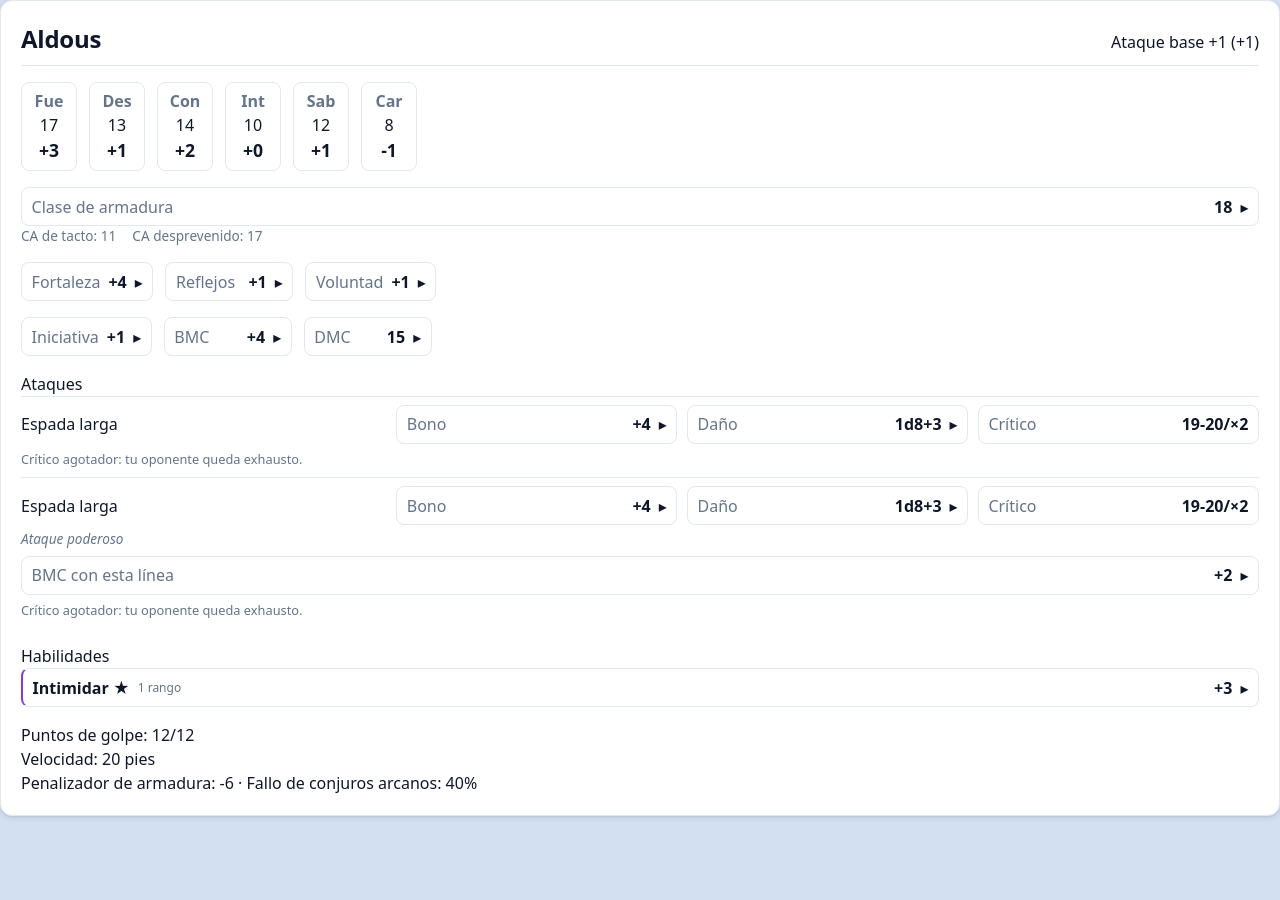
Test: CombatCard › shows a line's own CMB only when that line changes it
Click the button "BMC con esta línea +2 ▸" at coordinates (103, 575), box [22,557,1258,594]
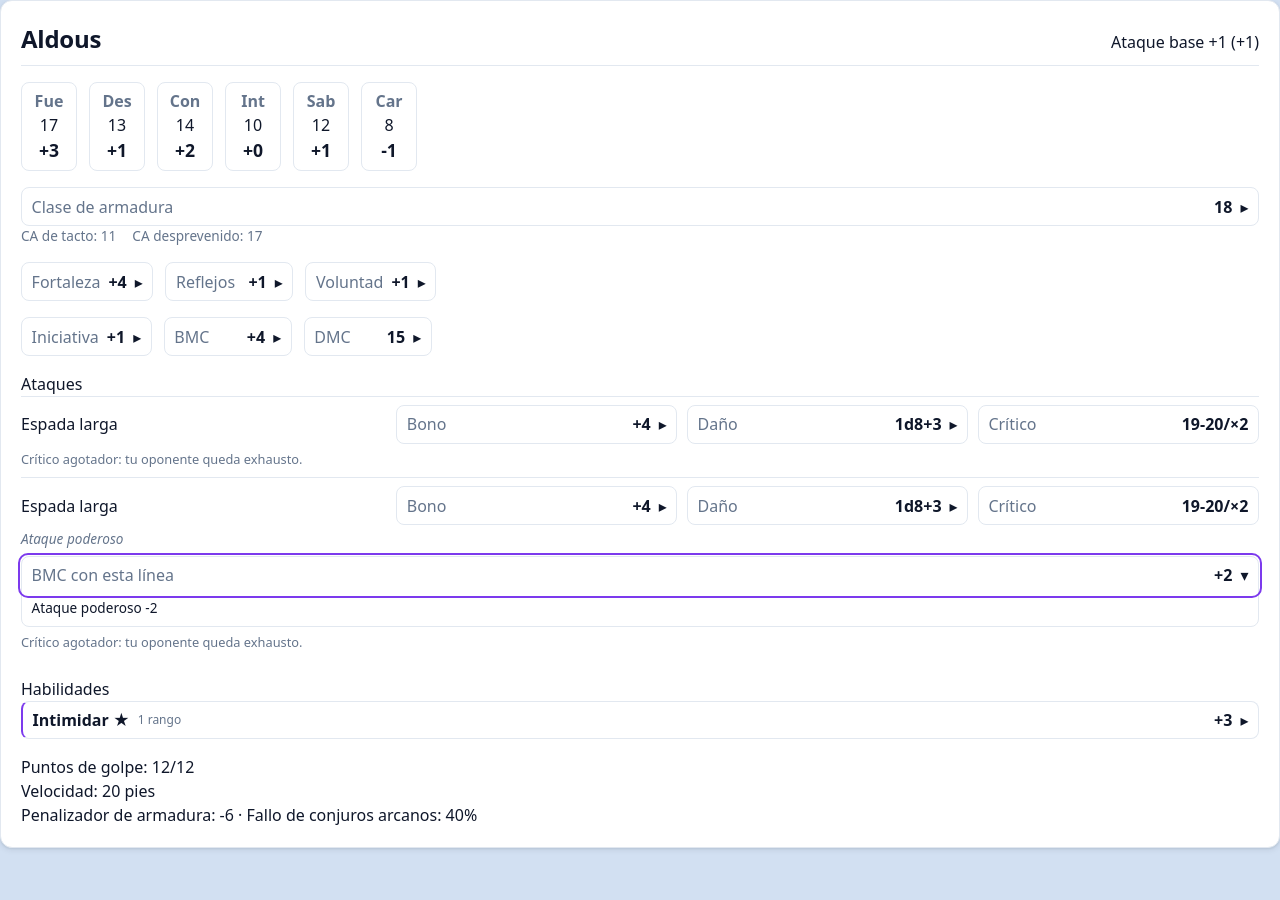
Expected: the element named "BMC con esta línea" shows "Ataque poderoso", [32,598,142,617]
